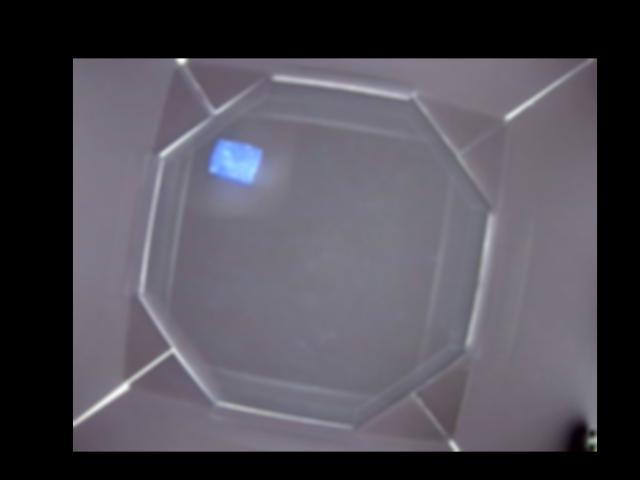Potato: (208, 137, 263, 182)
